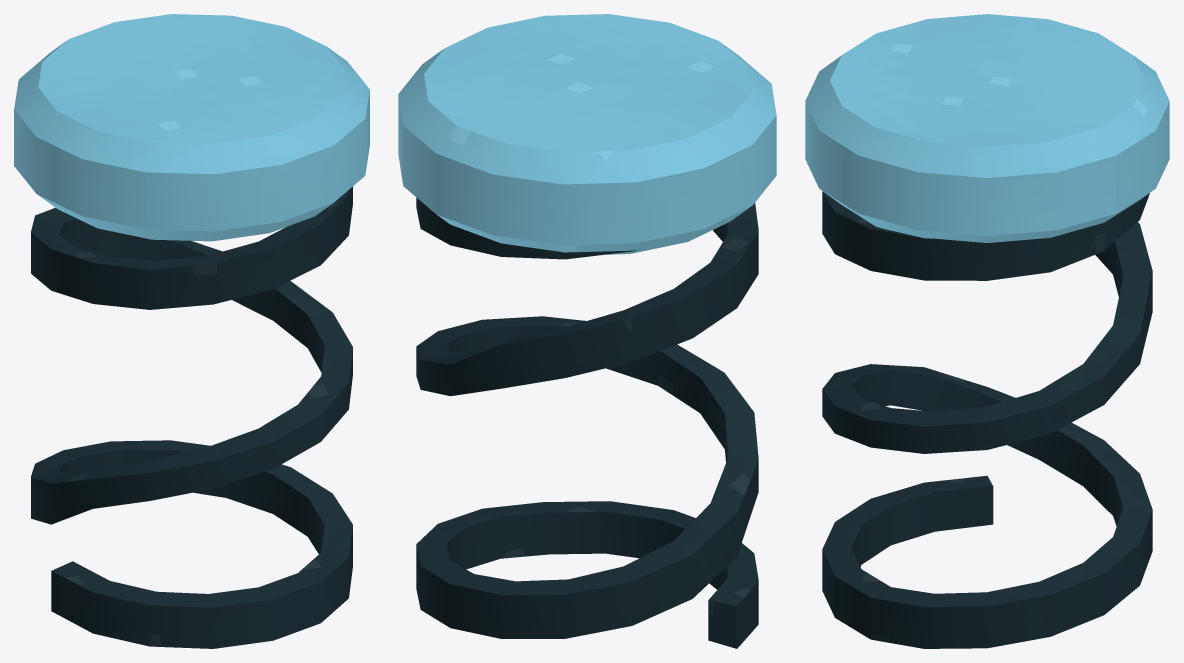
The model's file is item_artifactSpring.glb.
3 renders of one model, left to right at view 1: azimuth 30°, elevation 25°; view 2: azimuth 150°, elevation 25°; view 3: azimuth 270°, elevation 25°, orthographic. The views are drawn at different scales.
Parts seen in each view (by area): view 1: Donor_spring_0; view 2: Donor_spring_0; view 3: Donor_spring_0.
Boxes of the visible parts, x1=… form: Donor_spring_0: x1=14, y1=14, x2=369, y2=648; Donor_spring_0: x1=398, y1=14, x2=776, y2=648; Donor_spring_0: x1=805, y1=14, x2=1169, y2=648.
Bounding box in the file's own units: 0.22 × 0.34 × 0.22.
2 materials, 2 textured.
